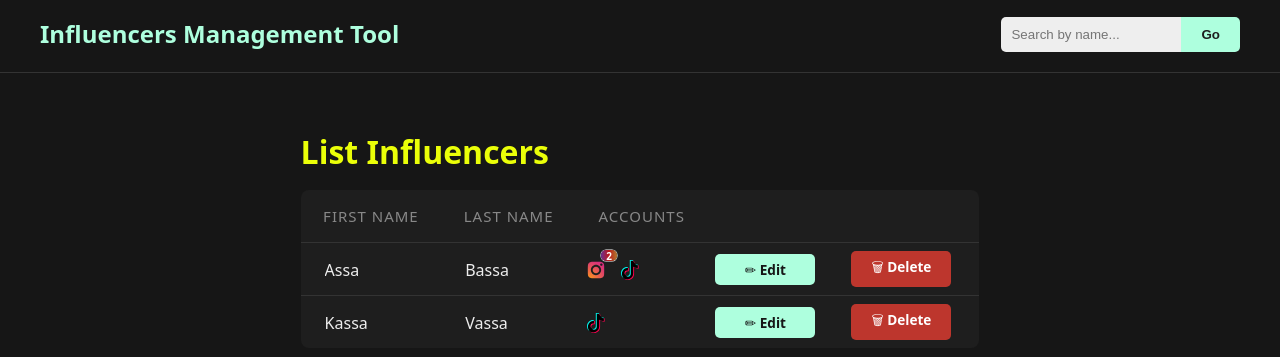
Test case: InfluencersListPage › displays "No Results Found" when filter yields none
Expected: the text "Assa" is shown, [325,258,359,282]
Note: Perform a search that returns no results
In the field with placeholder "Search by name...": (1092, 34) [1002,16,1182,52], type "XYZ"
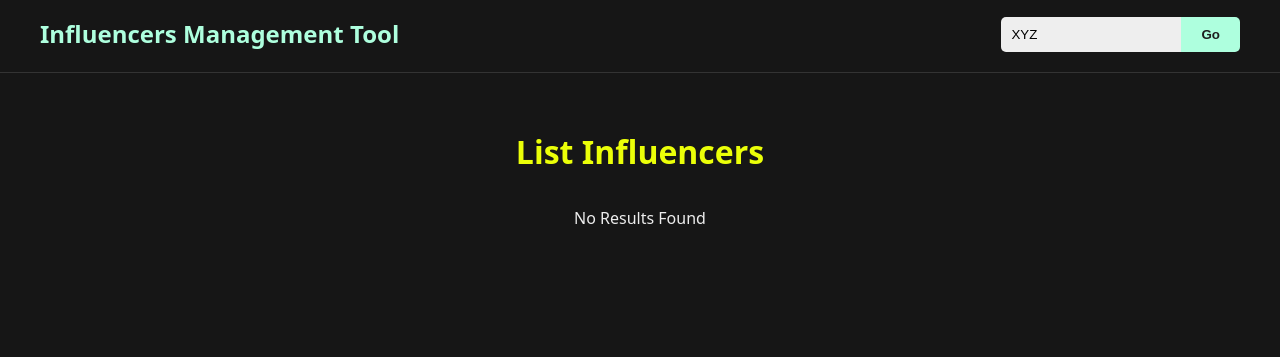
Expected: the text "No Results Found" is shown, [574,207,706,229]
